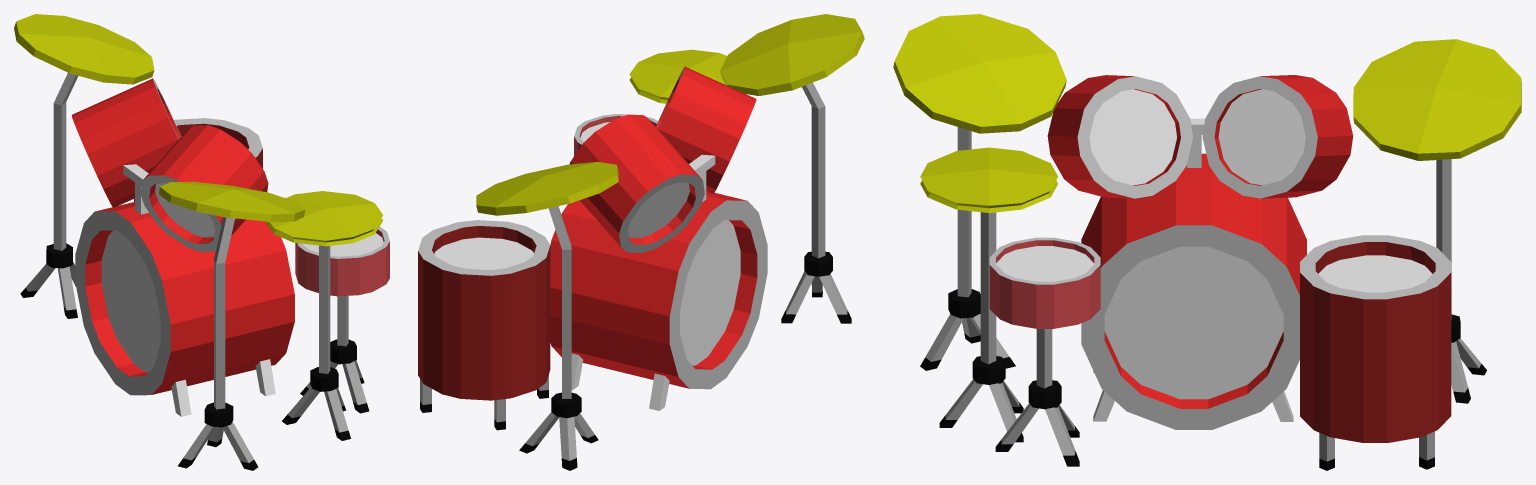
Rendered from Drums.fbx.
The picture shows the model from 3 angles, left to right: view 1: azimuth 30°, elevation 25°; view 2: azimuth 150°, elevation 25°; view 3: azimuth 270°, elevation 25°; orthographic projection. The views are drawn at different scales.
Parts seen in each view (by area): view 1: Cube, Cube.017, Cube.024, Cube.025, Cube.010, Cube.018, Cube.036, Cube.026, Cube.035, Cube.009, Cube.012, Cube.022 (+14 smaller); view 2: Cube, Cube.012, Cube.024, Cube.036, Cube.017, Cube.025, Cube.010, Cube.035, Cube.026, Cube.027, Cube.018, Cube.033 (+6 smaller); view 3: Cube, Cube.012, Cube.025, Cube.036, Cube.024, Cube.017, Cube.018, Cube.010, Cube.009, Cube.035, Cube.026, Cube.019 (+9 smaller).
Boxes of the visible parts, x1=… form: Cube: x1=75, y1=202, x2=294, y2=395; Cube.017: x1=140, y1=125, x2=268, y2=251; Cube.024: x1=71, y1=78, x2=180, y2=207; Cube.025: x1=14, y1=14, x2=154, y2=84; Cube.010: x1=265, y1=191, x2=383, y2=246; Cube.018: x1=295, y1=226, x2=389, y2=296; Cube.036: x1=159, y1=181, x2=305, y2=221; Cube.026: x1=53, y1=73, x2=78, y2=250; Cube.035: x1=214, y1=217, x2=234, y2=409; Cube.009: x1=319, y1=245, x2=330, y2=373; Cube.012: x1=134, y1=118, x2=262, y2=201; Cube.022: x1=342, y1=361, x2=369, y2=413; Cube: x1=550, y1=191, x2=767, y2=389; Cube.012: x1=418, y1=220, x2=550, y2=400; Cube.024: x1=569, y1=114, x2=704, y2=252; Cube.036: x1=720, y1=14, x2=864, y2=95; Cube.017: x1=656, y1=66, x2=756, y2=194; Cube.025: x1=476, y1=162, x2=618, y2=215; Cube.010: x1=629, y1=49, x2=727, y2=103; Cube.035: x1=802, y1=82, x2=825, y2=258; Cube.026: x1=548, y1=206, x2=571, y2=398; Cube.027: x1=559, y1=417, x2=577, y2=470; Cube.018: x1=574, y1=114, x2=658, y2=155; Cube.033: x1=781, y1=271, x2=814, y2=323; Cube: x1=1081, y1=153, x2=1306, y2=429; Cube.012: x1=1300, y1=235, x2=1451, y2=442; Cube.025: x1=1353, y1=39, x2=1521, y2=160; Cube.036: x1=893, y1=14, x2=1066, y2=133; Cube.024: x1=1202, y1=75, x2=1353, y2=198; Cube.017: x1=1047, y1=75, x2=1192, y2=198; Cube.018: x1=989, y1=237, x2=1100, y2=328; Cube.010: x1=920, y1=147, x2=1057, y2=212; Cube.009: x1=980, y1=212, x2=996, y2=364; Cube.035: x1=957, y1=127, x2=971, y2=297; Cube.026: x1=1436, y1=159, x2=1451, y2=319; Cube.019: x1=1036, y1=329, x2=1052, y2=388.
Size of the model in its own units: 250 by 260 by 458.
